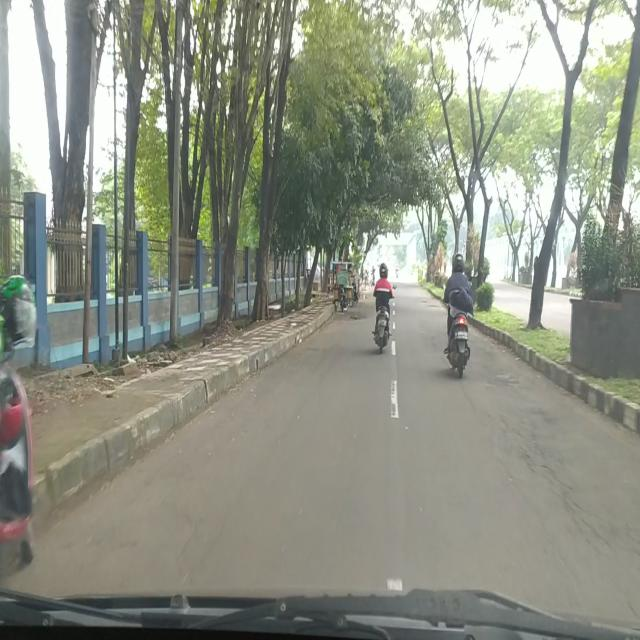Drain Hole: (493, 408, 640, 558)
